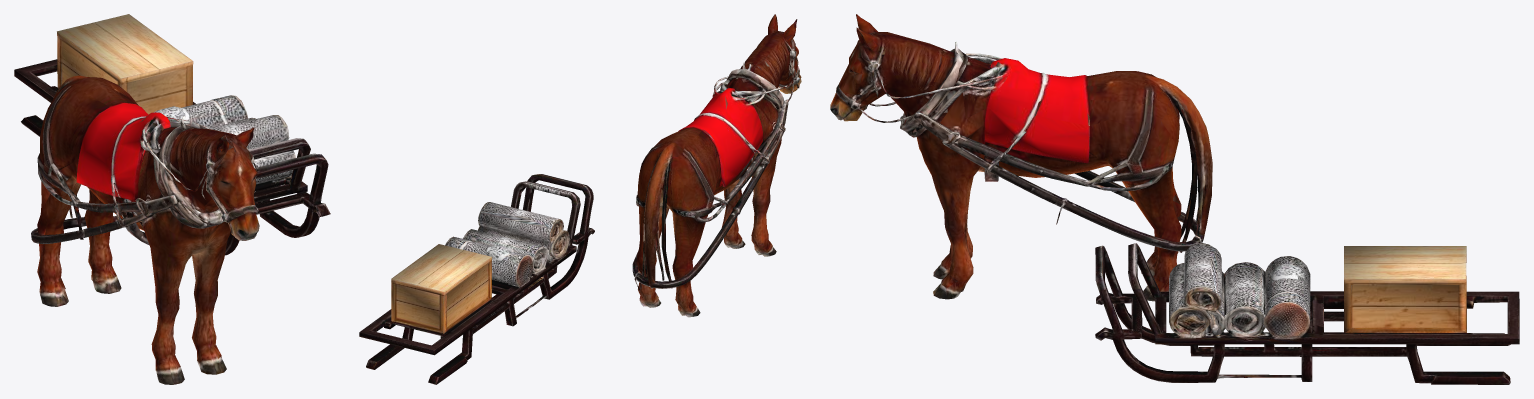
The model's file is sled.glb.
The picture shows the model from 3 angles, left to right: view 1: azimuth 30°, elevation 25°; view 2: azimuth 150°, elevation 25°; view 3: azimuth 270°, elevation 25°; orthographic projection. The views are drawn at different scales.
Visible parts, largest first — view 1: sled; view 2: sled; view 3: sled.
Boxes of the visible parts, x1=… form: sled: x1=14, y1=14, x2=330, y2=384; sled: x1=359, y1=14, x2=801, y2=384; sled: x1=830, y1=14, x2=1519, y2=384.
Size of the model in its own units: 0.437 by 0.4237 by 1.
1 material, 1 textured.
